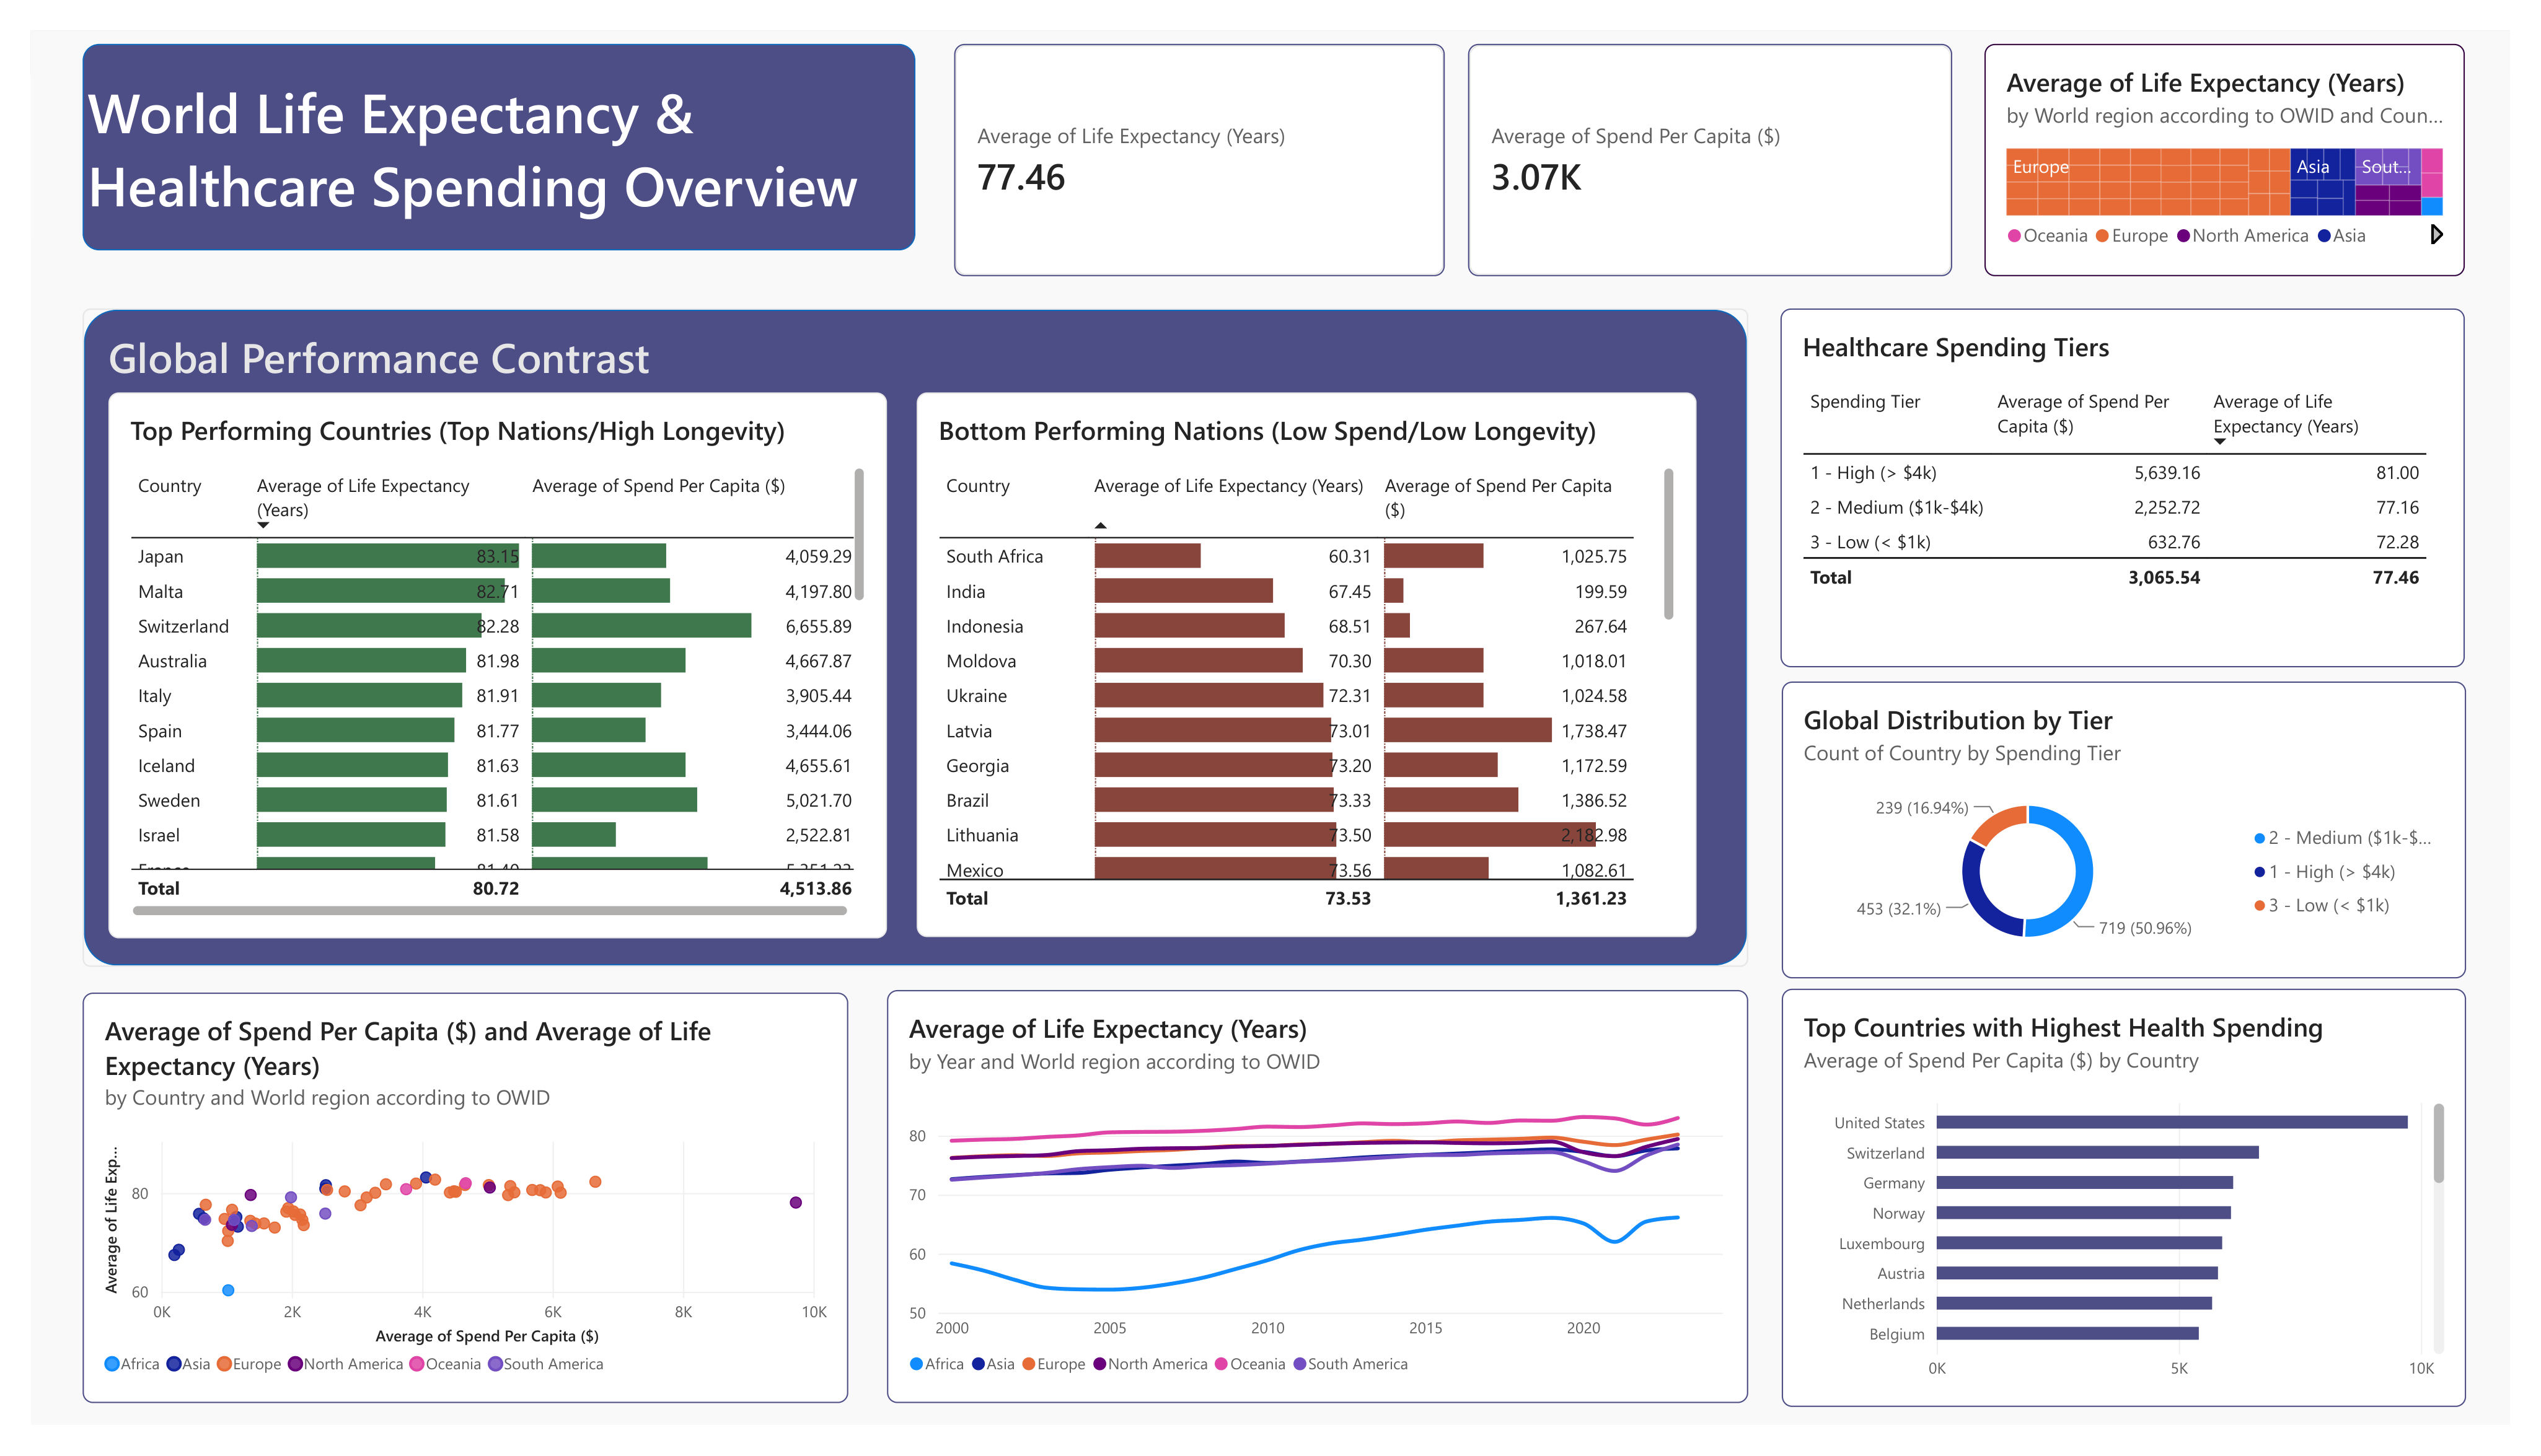

The page's visual inventory and layout, read from the dashboard file:
{"tool":"powerbi","page":{"name":"Page 1","canvas":[1920,1080],"ordinal":0},"visuals":[{"type":"cardVisual","fields":{"Data":["Avg(life-expectancy-vs-health-expenditure.Life expectancy)"]},"box":[715,10,380,180],"z":0},{"type":"cardVisual","fields":{"Data":["Avg(life-expectancy-vs-health-expenditure.Health expenditure per capita)"]},"box":[1113.3,10,375,180],"z":1000},{"type":"scatterChart","fields":{"Category":["life-expectancy-vs-health-expenditure.Entity"],"Series":["life-expectancy-vs-health-expenditure.World region according to OWID"],"X":["Avg(life-expectancy-vs-health-expenditure.Health expenditure per capita)"],"Y":["Avg(life-expectancy-vs-health-expenditure.Life expectancy)"]},"box":[40,745,592.5,317.5],"z":2000},{"type":"lineChart","fields":{"Category":["life-expectancy-vs-health-expenditure.Year"],"Series":["life-expectancy-vs-health-expenditure.World region according to OWID"],"Y":["Avg(life-expectancy-vs-health-expenditure.Life expectancy)"]},"box":[662.5,742.5,667.5,320],"z":3000},{"type":"clusteredBarChart","title":"Top Countries with Highest Health Spending","fields":{"Category":["life-expectancy-vs-health-expenditure.Entity"],"Y":["Avg(life-expectancy-vs-health-expenditure.Health expenditure per capita)"]},"box":[1356,742,530,324],"z":4000},{"type":"tableEx","title":"Healthcare Spending Tiers","fields":{"Values":["life-expectancy-vs-health-expenditure.Spending Tier","Avg(life-expectancy-vs-health-expenditure.Health expenditure per capita)","Avg(life-expectancy-vs-health-expenditure.Life expectancy)"]},"box":[1355,215,530,278.3],"z":5000},{"type":"shape","box":[40,10,645,160],"z":6000},{"type":"shape","box":[40,215,1290,510],"z":7000},{"type":"textbox","title":"Global Performance Contrast","box":[60,230,656,50],"z":8000},{"type":"tableEx","title":"Top Performing Countries (Top Nations/High Longevity)","fields":{"Values":["life-expectancy-vs-health-expenditure.Entity","Avg(life-expectancy-vs-health-expenditure.Life expectancy)","Avg(life-expectancy-vs-health-expenditure.Health expenditure per capita)"]},"box":[60,280,602.5,422.5],"z":9000},{"type":"tableEx","title":"Bottom Performing Nations (Low Spend/Low Longevity)","fields":{"Values":["life-expectancy-vs-health-expenditure.Entity","Avg(life-expectancy-vs-health-expenditure.Life expectancy)","Avg(life-expectancy-vs-health-expenditure.Health expenditure per capita)"]},"box":[686,280,604,422],"z":10000},{"type":"donutChart","title":"Global Distribution by Tier","fields":{"Category":["life-expectancy-vs-health-expenditure.Spending Tier"],"Y":["CountNonNull(life-expectancy-vs-health-expenditure.Entity)"]},"box":[1355.6,504.4,530,230],"z":11000},{"type":"treemap","fields":{"Details":["life-expectancy-vs-health-expenditure.Country"],"Group":["life-expectancy-vs-health-expenditure.World region according to OWID"],"Values":["Avg(life-expectancy-vs-health-expenditure.Life expectancy)"]},"box":[1513,10,372,180],"z":11002}]}

Visuals, with their boxes on the page's 1920x1080 design canvas (x1, y1, x2, y2). These are canvas units, not pixel positions in the 2541x1456 screenshot, which may show the page scaled, cropped or inside an application window:
cardVisual - Avg(life-expectancy-vs-health-expenditure.Life expectancy): box(715, 10, 1095, 190)
cardVisual - Avg(life-expectancy-vs-health-expenditure.Health expenditure per capita): box(1113, 10, 1488, 190)
scatterChart - life-expectancy-vs-health-expenditure.Entity x life-expectancy-vs-health-expenditure.World region according to OWID: box(40, 745, 632, 1062)
lineChart - life-expectancy-vs-health-expenditure.Year x life-expectancy-vs-health-expenditure.World region according to OWID: box(662, 742, 1330, 1062)
"Top Countries with Highest Health Spending" clusteredBarChart: box(1356, 742, 1886, 1066)
"Healthcare Spending Tiers" tableEx: box(1355, 215, 1885, 493)
shape: box(40, 10, 685, 170)
shape: box(40, 215, 1330, 725)
"Global Performance Contrast" textbox: box(60, 230, 716, 280)
"Top Performing Countries (Top Nations/High Longevity)" tableEx: box(60, 280, 662, 702)
"Bottom Performing Nations (Low Spend/Low Longevity)" tableEx: box(686, 280, 1290, 702)
"Global Distribution by Tier" donutChart: box(1356, 504, 1886, 734)
treemap - life-expectancy-vs-health-expenditure.Country x life-expectancy-vs-health-expenditure.World region according to OWID: box(1513, 10, 1885, 190)
